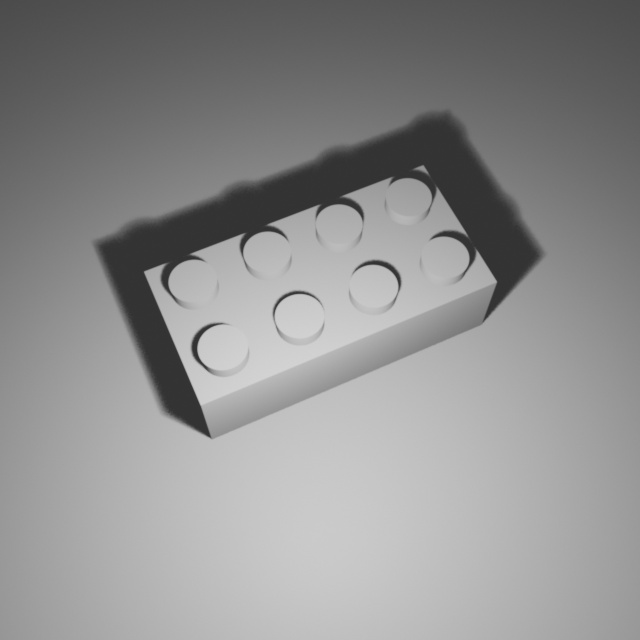lego_2x4: (141, 156, 500, 440)
